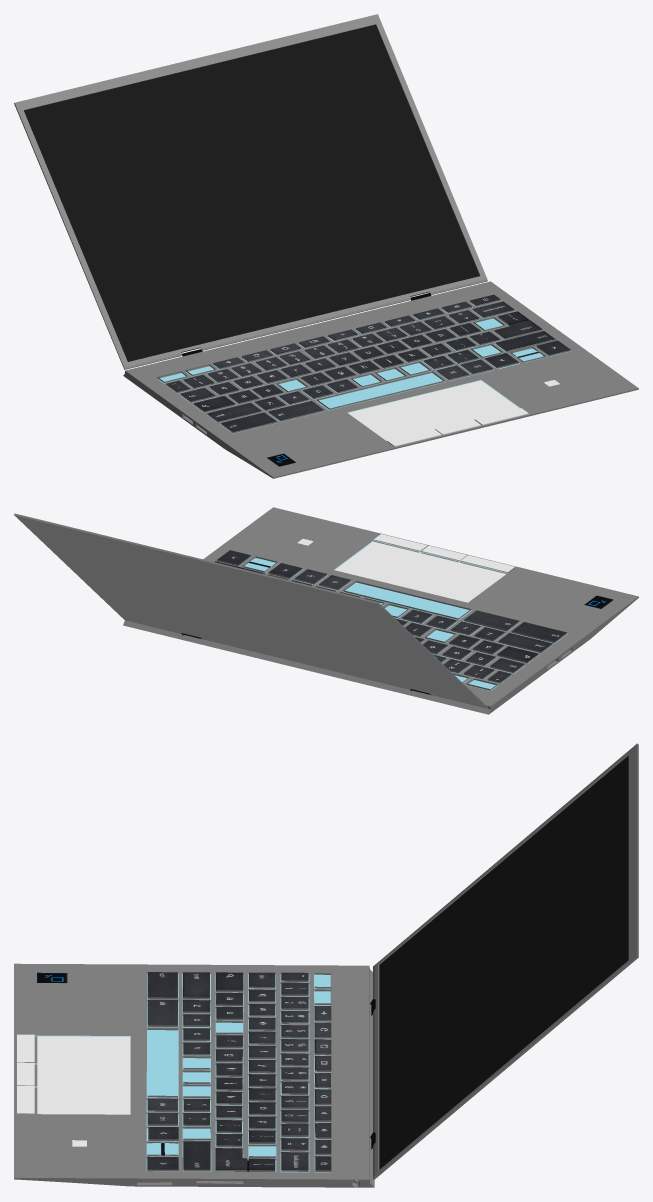
The model's file is laptop.gltf.
The picture shows the model from 3 angles, top to bottom: view 1: azimuth 30°, elevation 25°; view 2: azimuth 150°, elevation 25°; view 3: azimuth 270°, elevation 25°; orthographic projection. The views are drawn at different scales.
Visible parts, largest first — view 1: Cube.001, Cube, Cube.002; view 2: Cube.001, Cube, Cube.002; view 3: Cube.001, Cube, Cube.002.
Boxes of the visible parts, box(x1,y1,x2,y2) form: Cube.001: box(14, 14, 487, 369); Cube: box(123, 281, 638, 478); Cube.002: box(157, 294, 571, 433); Cube.001: box(14, 513, 487, 708); Cube: box(123, 507, 638, 714); Cube.002: box(214, 540, 567, 690); Cube.001: box(373, 743, 638, 1179); Cube: box(14, 963, 375, 1187); Cube.002: box(35, 972, 331, 1172).
Size of the model in its own units: 3.91 by 1.97 by 4.83.
6 materials, 3 textured.
